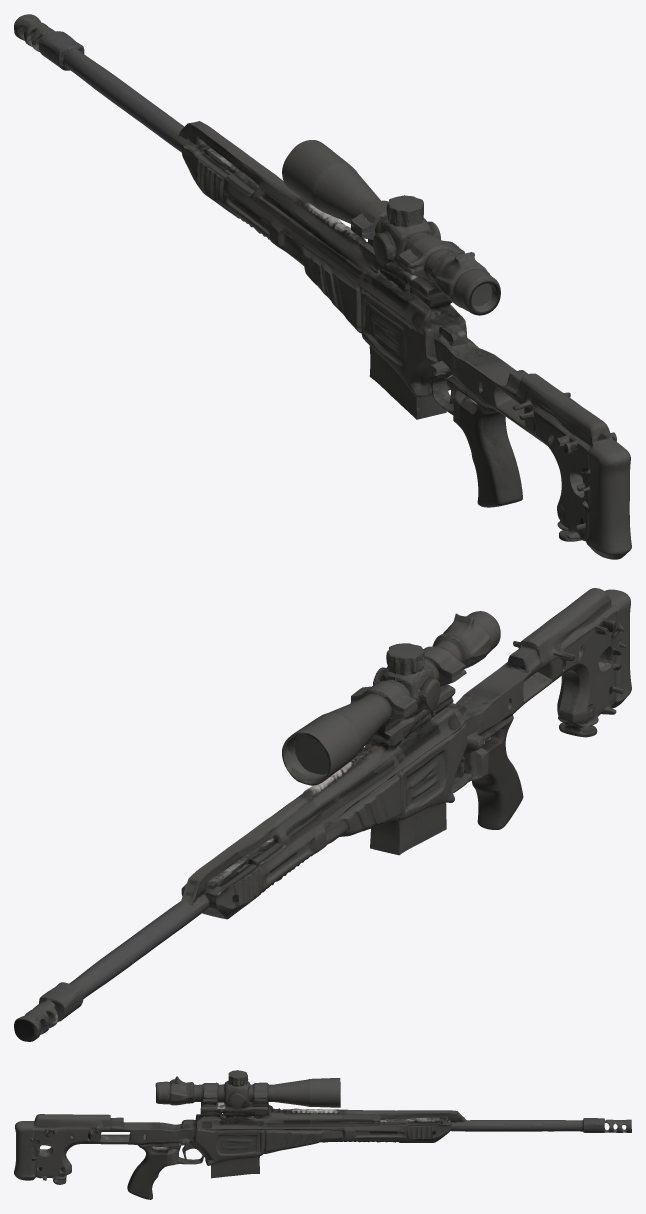
The model's file is VIPER.glb.
3 renders of one model, top to bottom at view 1: azimuth 30°, elevation 25°; view 2: azimuth 150°, elevation 25°; view 3: azimuth 270°, elevation 25°, orthographic. The views are drawn at different scales.
Parts seen in each view (by area): view 1: tripo_node_7058a93f-75fe-46e8-85fb-a86fcd56e171; view 2: tripo_node_7058a93f-75fe-46e8-85fb-a86fcd56e171; view 3: tripo_node_7058a93f-75fe-46e8-85fb-a86fcd56e171.
Boxes of the visible parts, box(x1,y1,x2,y2) form: tripo_node_7058a93f-75fe-46e8-85fb-a86fcd56e171: box(14, 14, 631, 559); tripo_node_7058a93f-75fe-46e8-85fb-a86fcd56e171: box(14, 588, 631, 1041); tripo_node_7058a93f-75fe-46e8-85fb-a86fcd56e171: box(14, 1070, 631, 1199).
Size of the model in its own units: 0.0552 by 0.2211 by 1.
1 material, 1 textured.
